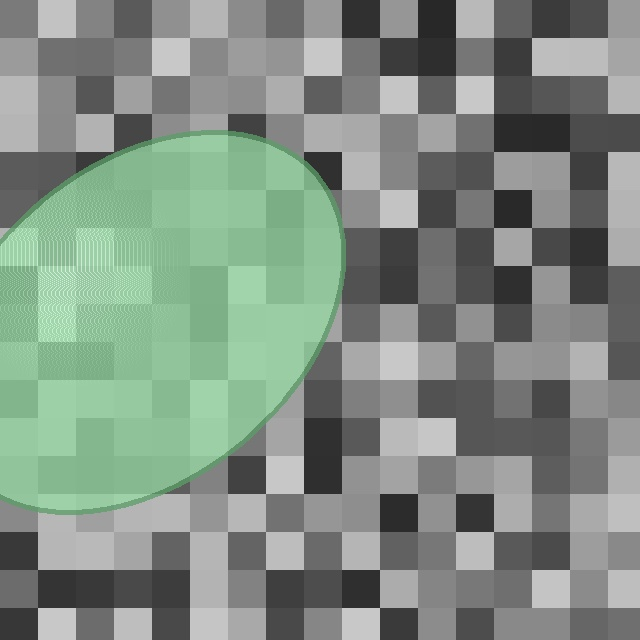lens: (0, 133, 343, 511)
